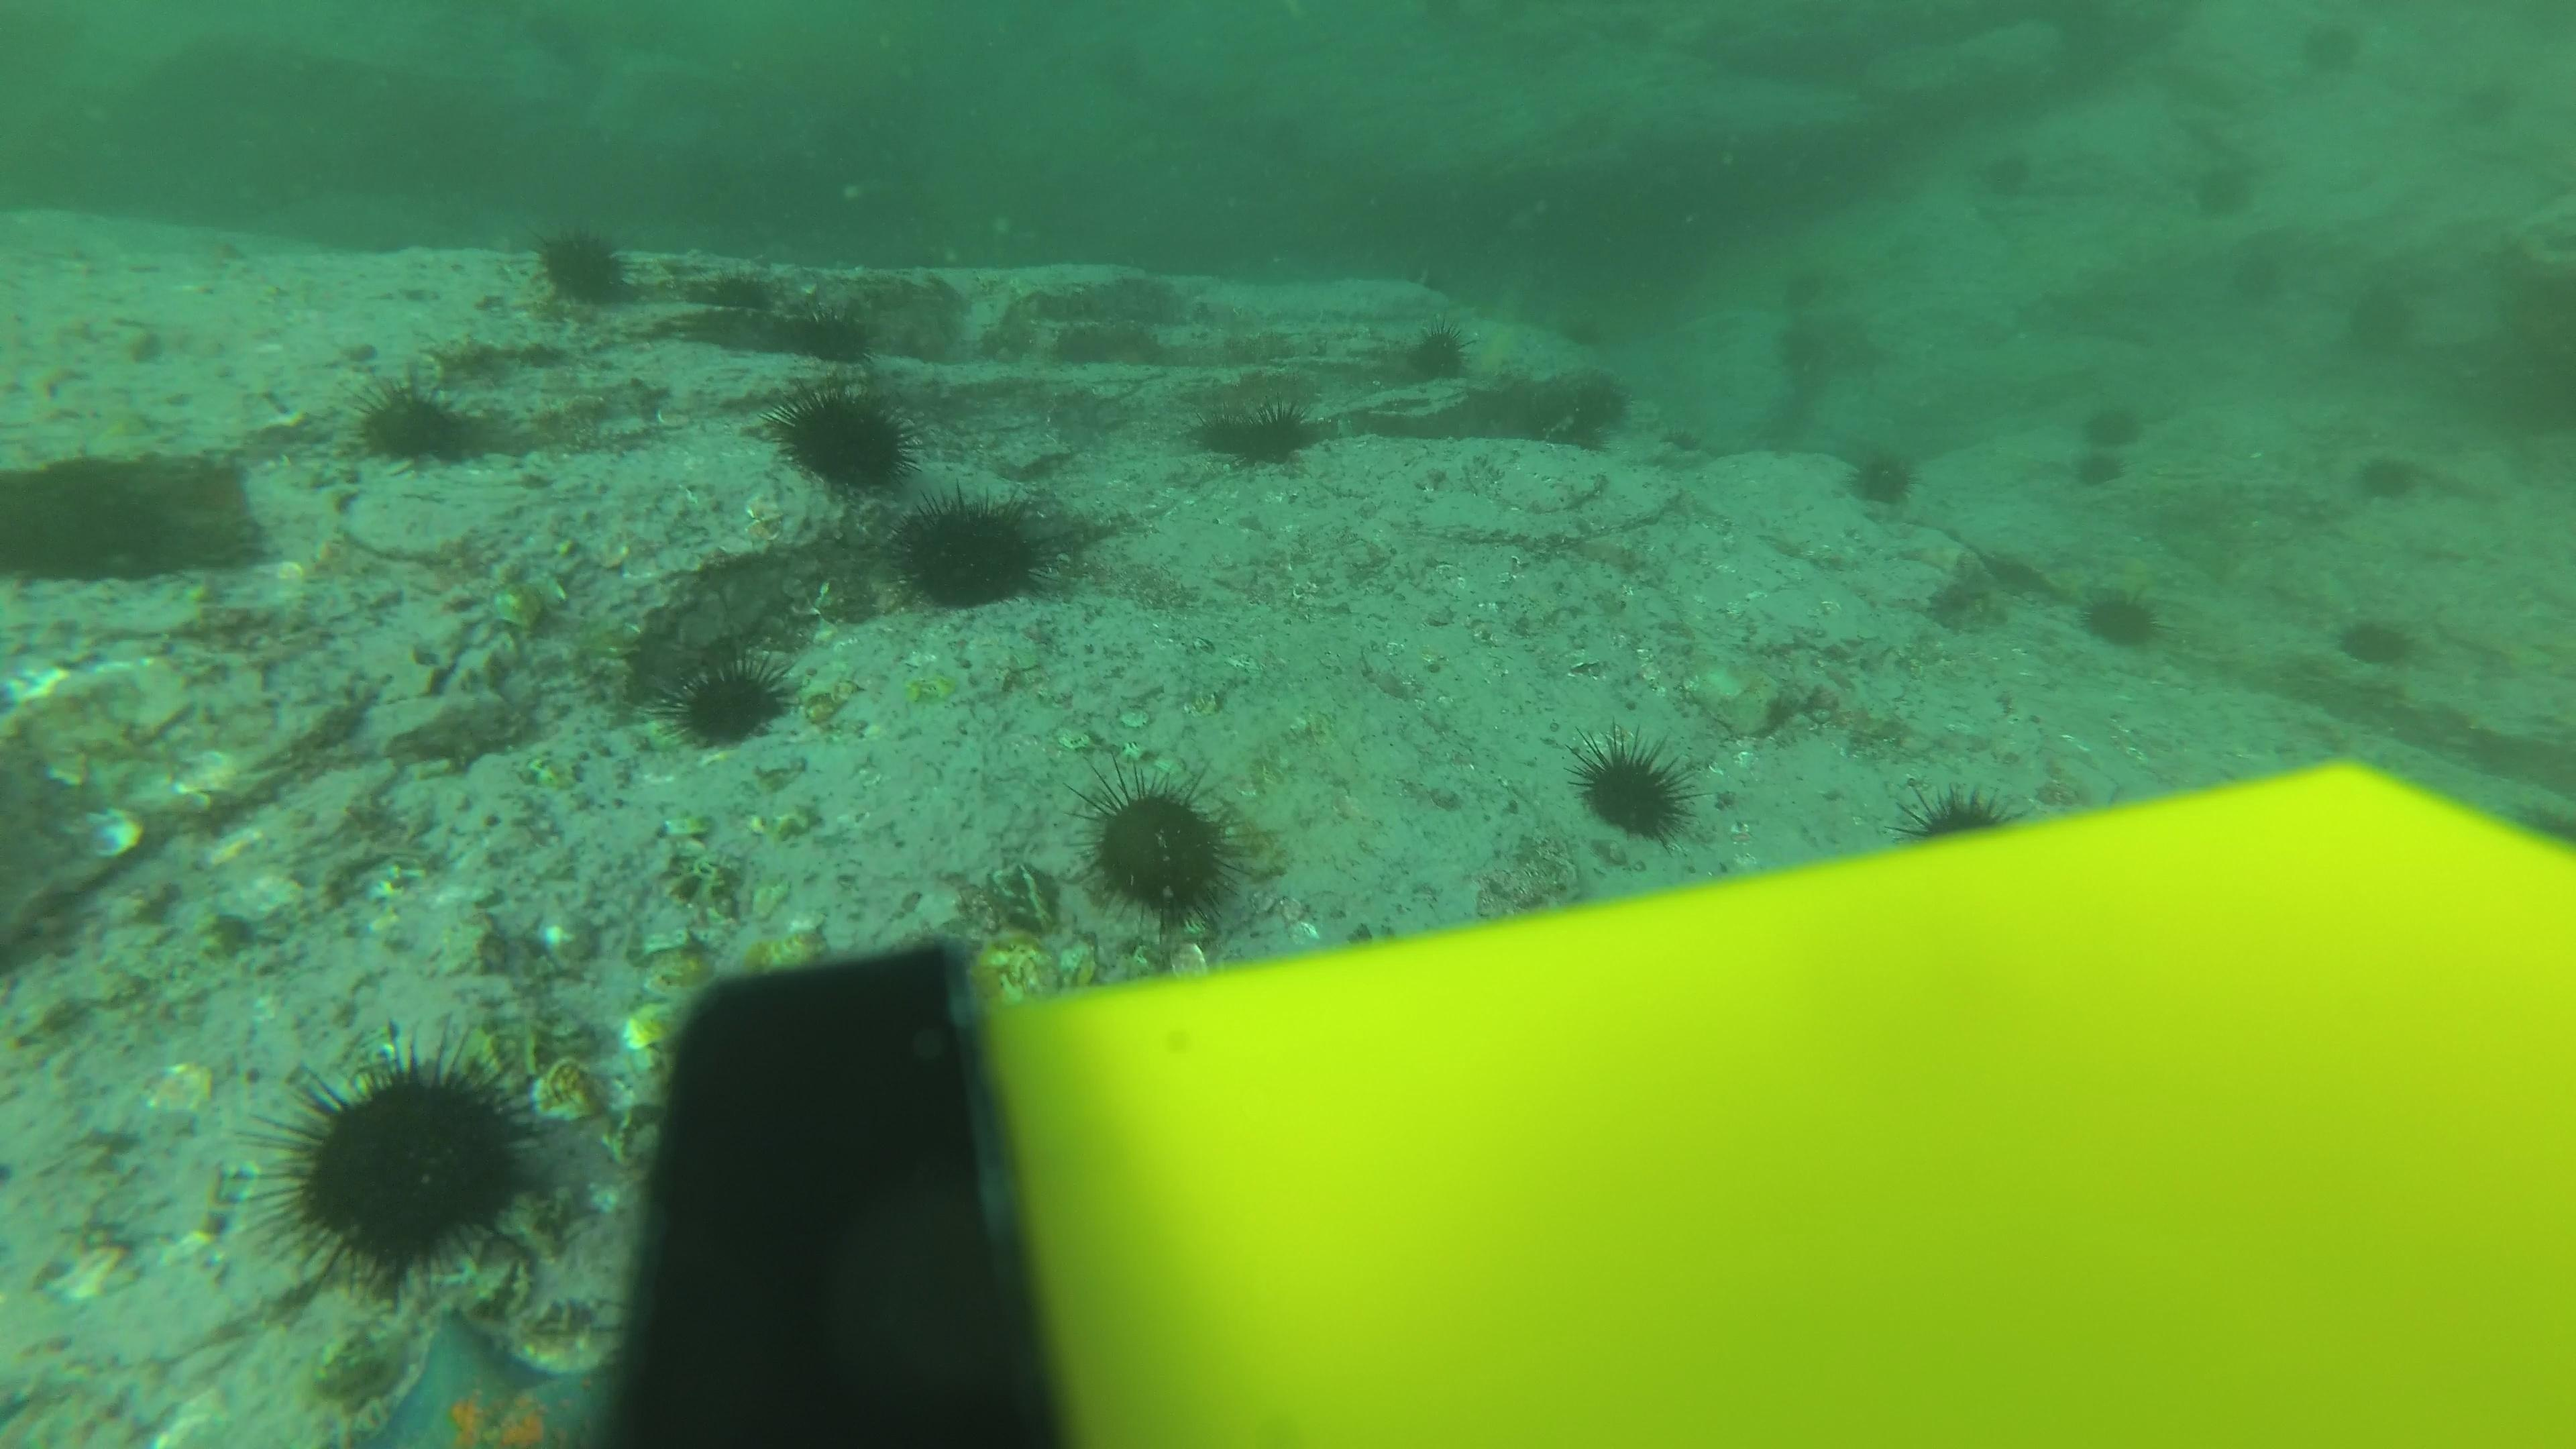echinus: (253, 1031, 550, 1293), (1076, 768, 1249, 925), (892, 487, 1058, 616), (766, 375, 920, 497), (658, 648, 798, 755), (1569, 731, 1698, 847), (350, 377, 492, 476), (524, 219, 642, 317), (1891, 778, 2022, 849), (2074, 579, 2169, 658), (786, 295, 878, 366), (1838, 441, 1925, 515), (2332, 607, 2424, 674), (1396, 318, 1477, 387), (2348, 446, 2427, 510), (1246, 398, 1320, 464), (2348, 288, 2420, 354), (702, 264, 780, 318), (1576, 363, 1644, 423), (1189, 405, 1253, 458), (2291, 21, 2360, 65), (2192, 170, 2252, 218), (2066, 448, 2127, 487), (2084, 405, 2144, 444), (2231, 249, 2282, 294), (1780, 272, 1826, 311), (1983, 152, 2029, 191), (1660, 419, 1704, 458)
starfish: (357, 1309, 621, 1438)
